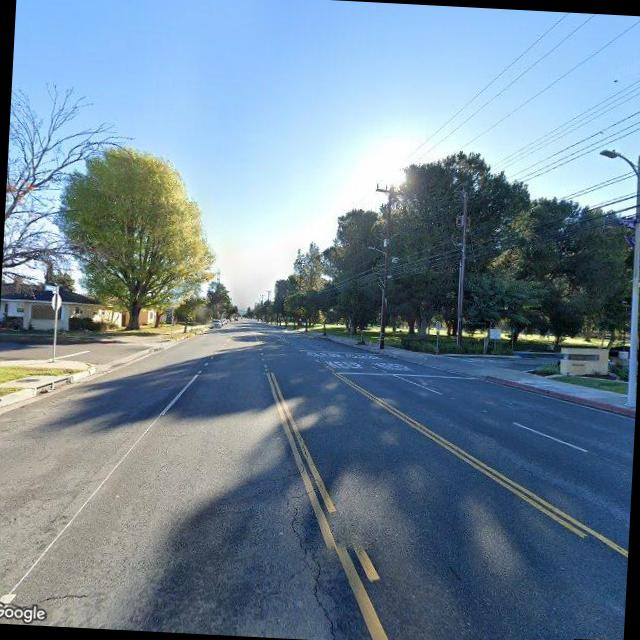crack: (274, 420, 355, 630), (0, 577, 94, 611)
